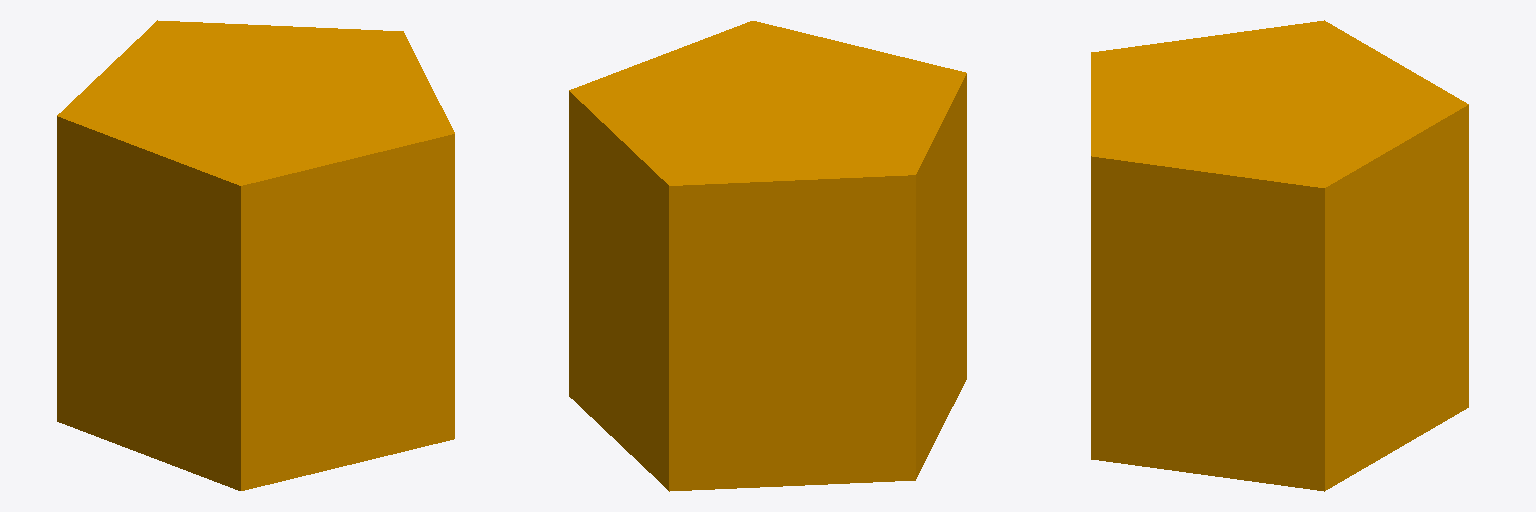
URDF robot description (pentagon):
<?xml version="1.0"?>
<robot name="pentagon">
  <link name="pentagon">
    <visual>
      <origin xyz="0 0 0"/>
      <geometry>
        <mesh filename="./pentagon.stl"/>
      </geometry>
    </visual>
    <collision>
      <origin xyz="0 0 0"/>
      <geometry>
        <mesh filename="./pentagon.stl"/>
      </geometry>
    </collision>
    <inertial>
      <mass value="0.5"/>
      <inertia ixx="0.05" ixy="0.0" ixz="0.0" iyy="0.05" iyz="0.0" izz="0.05"/>
    </inertial>
  </link>
</robot>

--- Render facts (derived) ---
3 views of the same robot in one strip: view 1: azimuth 30°, elevation 25°; view 2: azimuth 150°, elevation 25°; view 3: azimuth 270°, elevation 25° (orthographic).
Model pentagon with 1 links and 0 joints (none), rooted at pentagon, posed all joints at 0.
Links seen in each view (by area): view 1: pentagon; view 2: pentagon; view 3: pentagon.
Boxes of the visible links, box(x1,y1,x2,y2) form: pentagon: box(57, 20, 454, 490); pentagon: box(569, 21, 966, 491); pentagon: box(1091, 20, 1468, 491).
Size in the robot's own frame: 0.9511 by 0.9045 by 0.8 metres.
1 mesh visuals loaded from 1 distinct referenced files (1 binary STL).